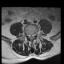CCS_normal: (30, 32, 32, 41)
LFS_normal: (34, 31, 36, 37)
LLS_normal: (32, 33, 34, 39)
RFS_normal: (27, 32, 28, 38)
RLS_normal: (28, 33, 30, 39)
